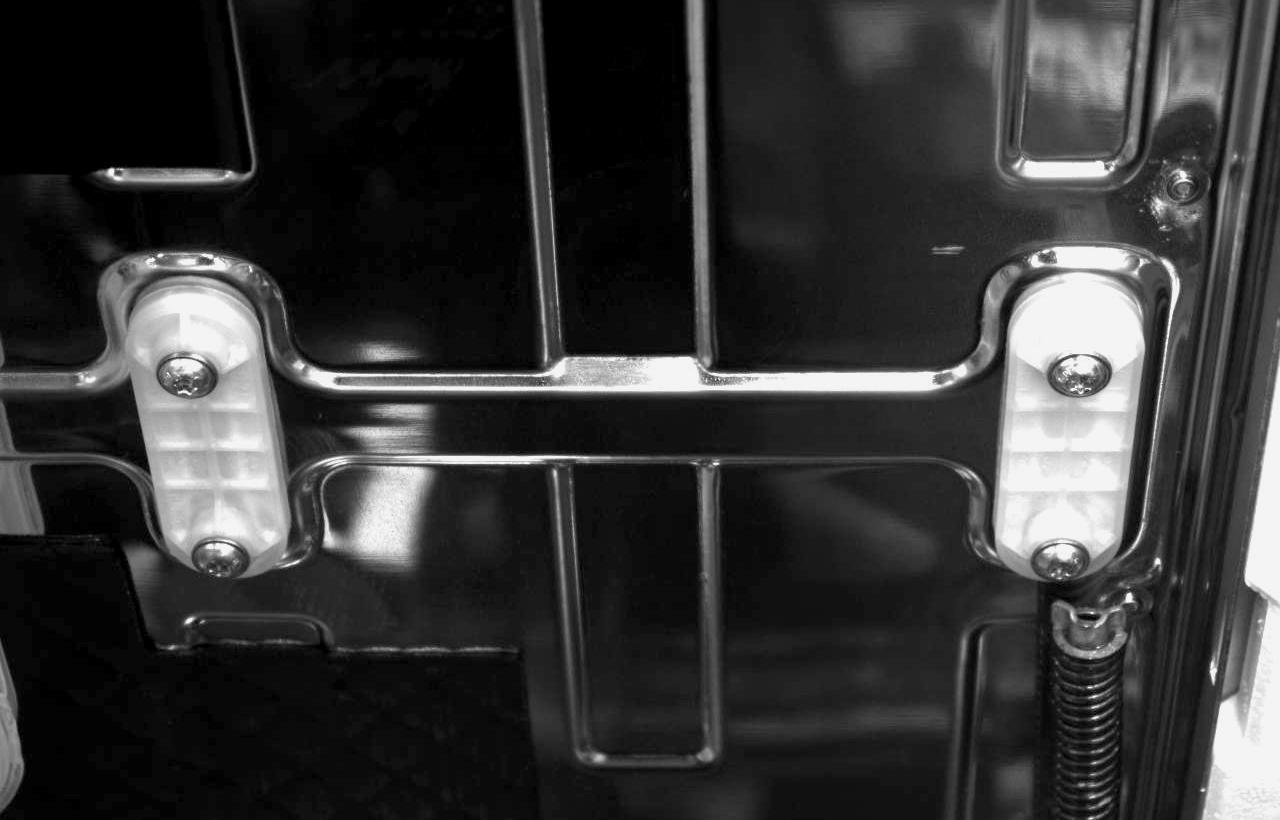vida-ok: (153, 339, 224, 407), (1046, 344, 1113, 411), (1030, 528, 1096, 587), (190, 527, 256, 585)
